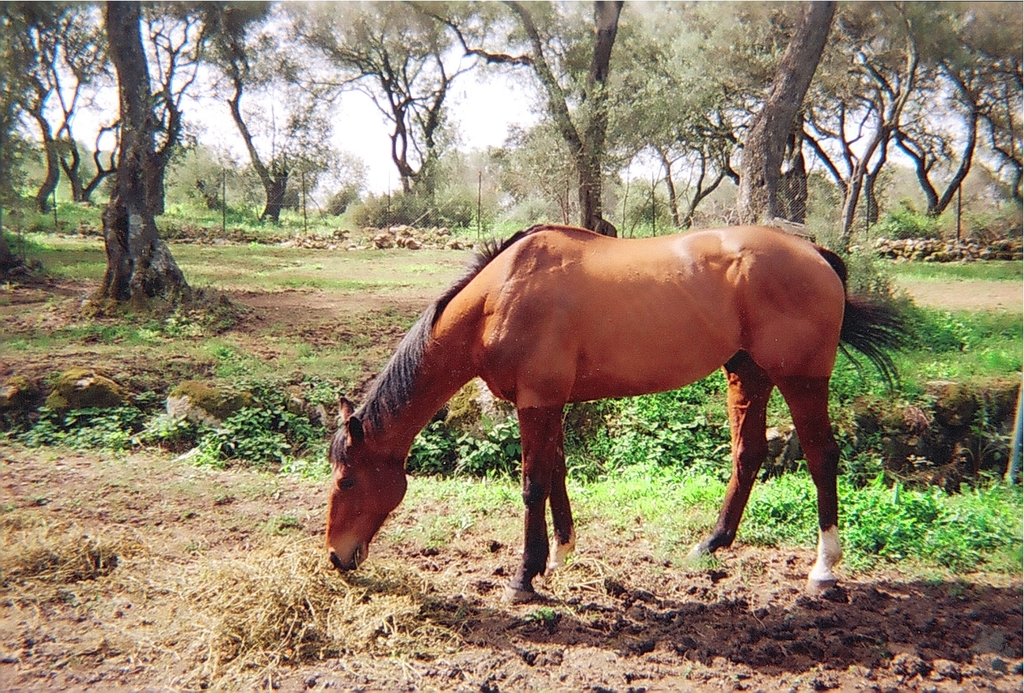horse: (319, 218, 919, 603)
